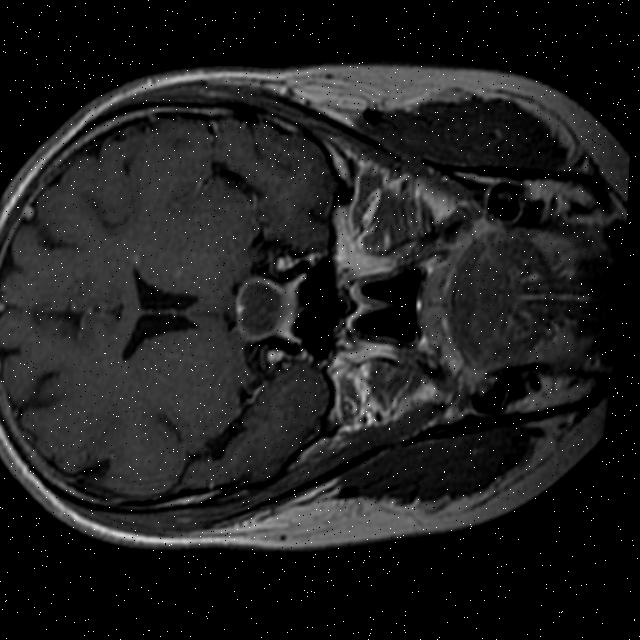Pituitary: (230, 271, 289, 344)
